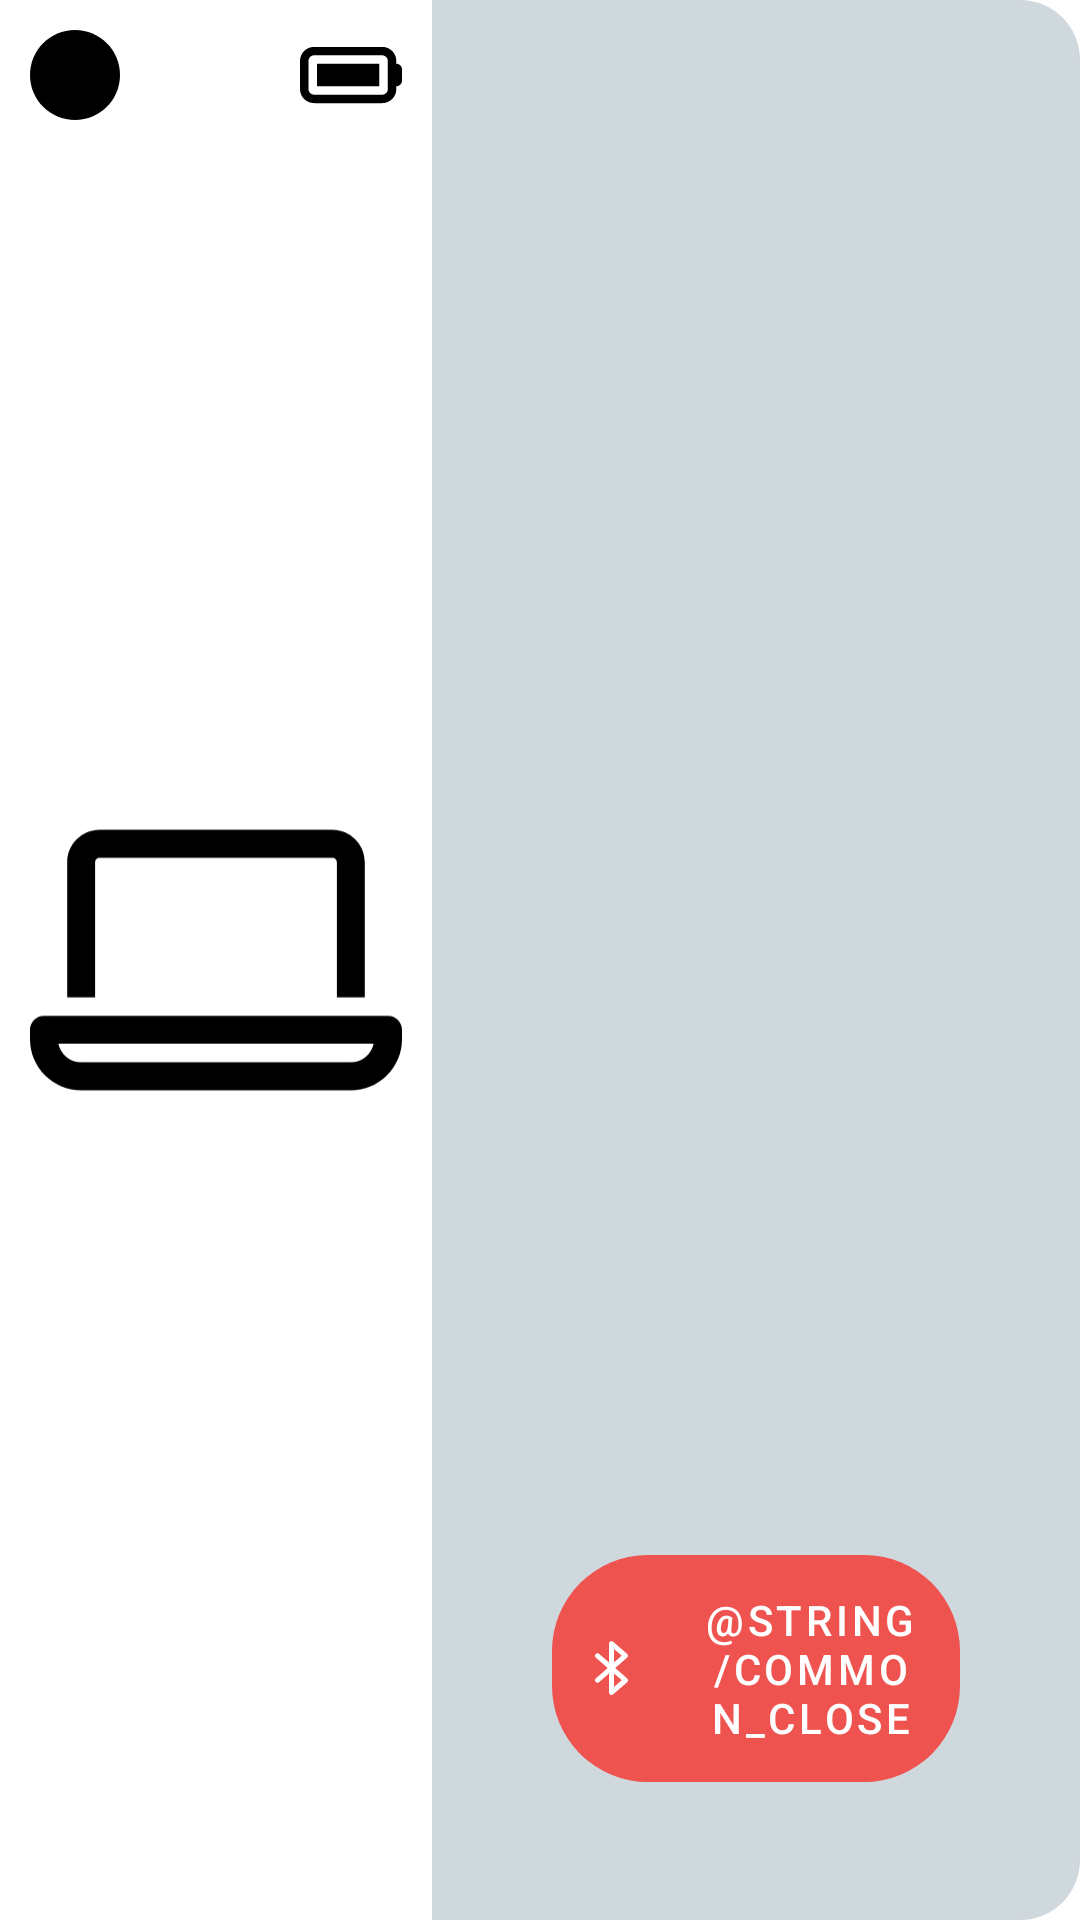

Icons on this 1080*1920 Android screen, each with its box as bbox(x1, y1, x2, y2):
battery full: bbox(300, 47, 402, 104)
